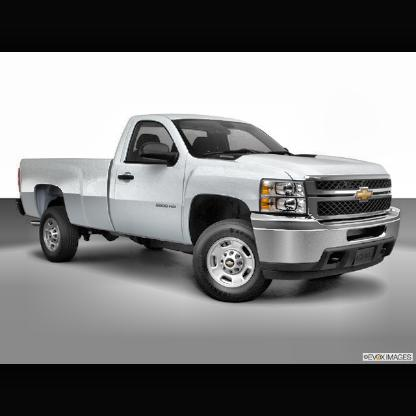Chevrolet Silverado 2500HD Regular Cab 2012: (17, 117, 401, 304)
